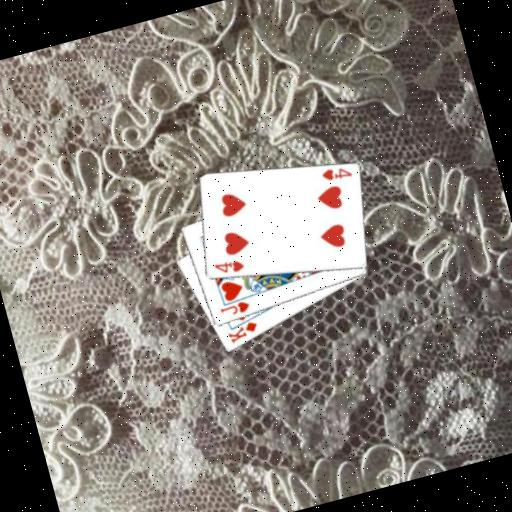4H: (317, 160, 354, 185), (210, 254, 246, 279)
JH: (216, 297, 252, 320)
KD: (223, 316, 262, 345)
